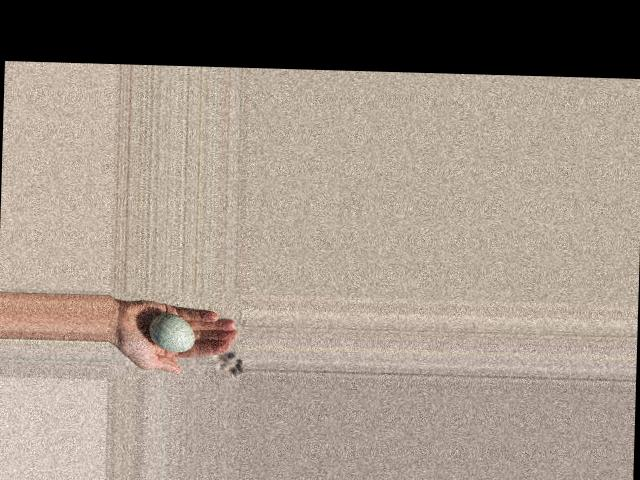egg: (150, 312, 195, 351)
